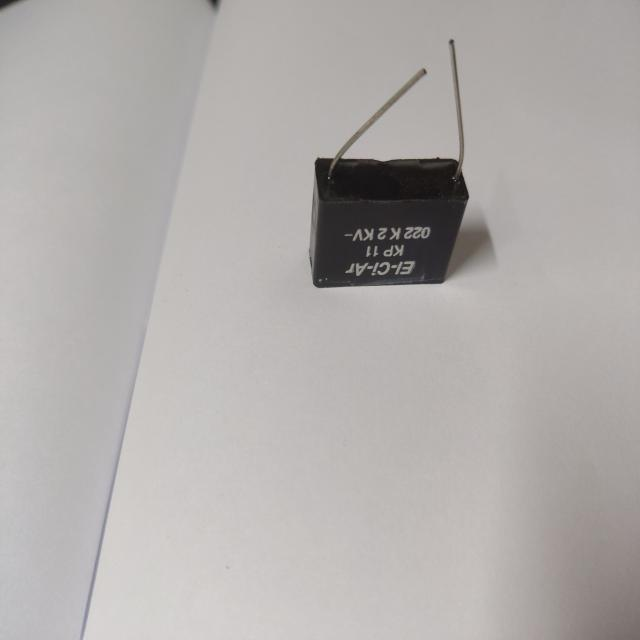capacitor: (302, 28, 473, 304)
